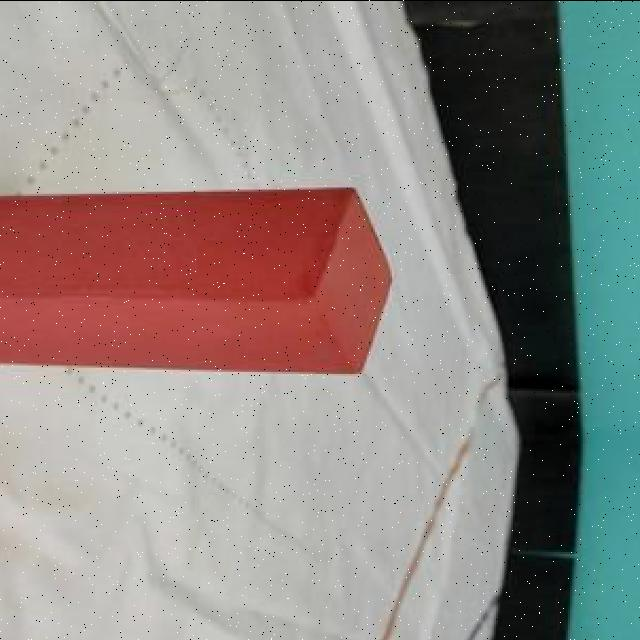redbox: (0, 184, 399, 377)
